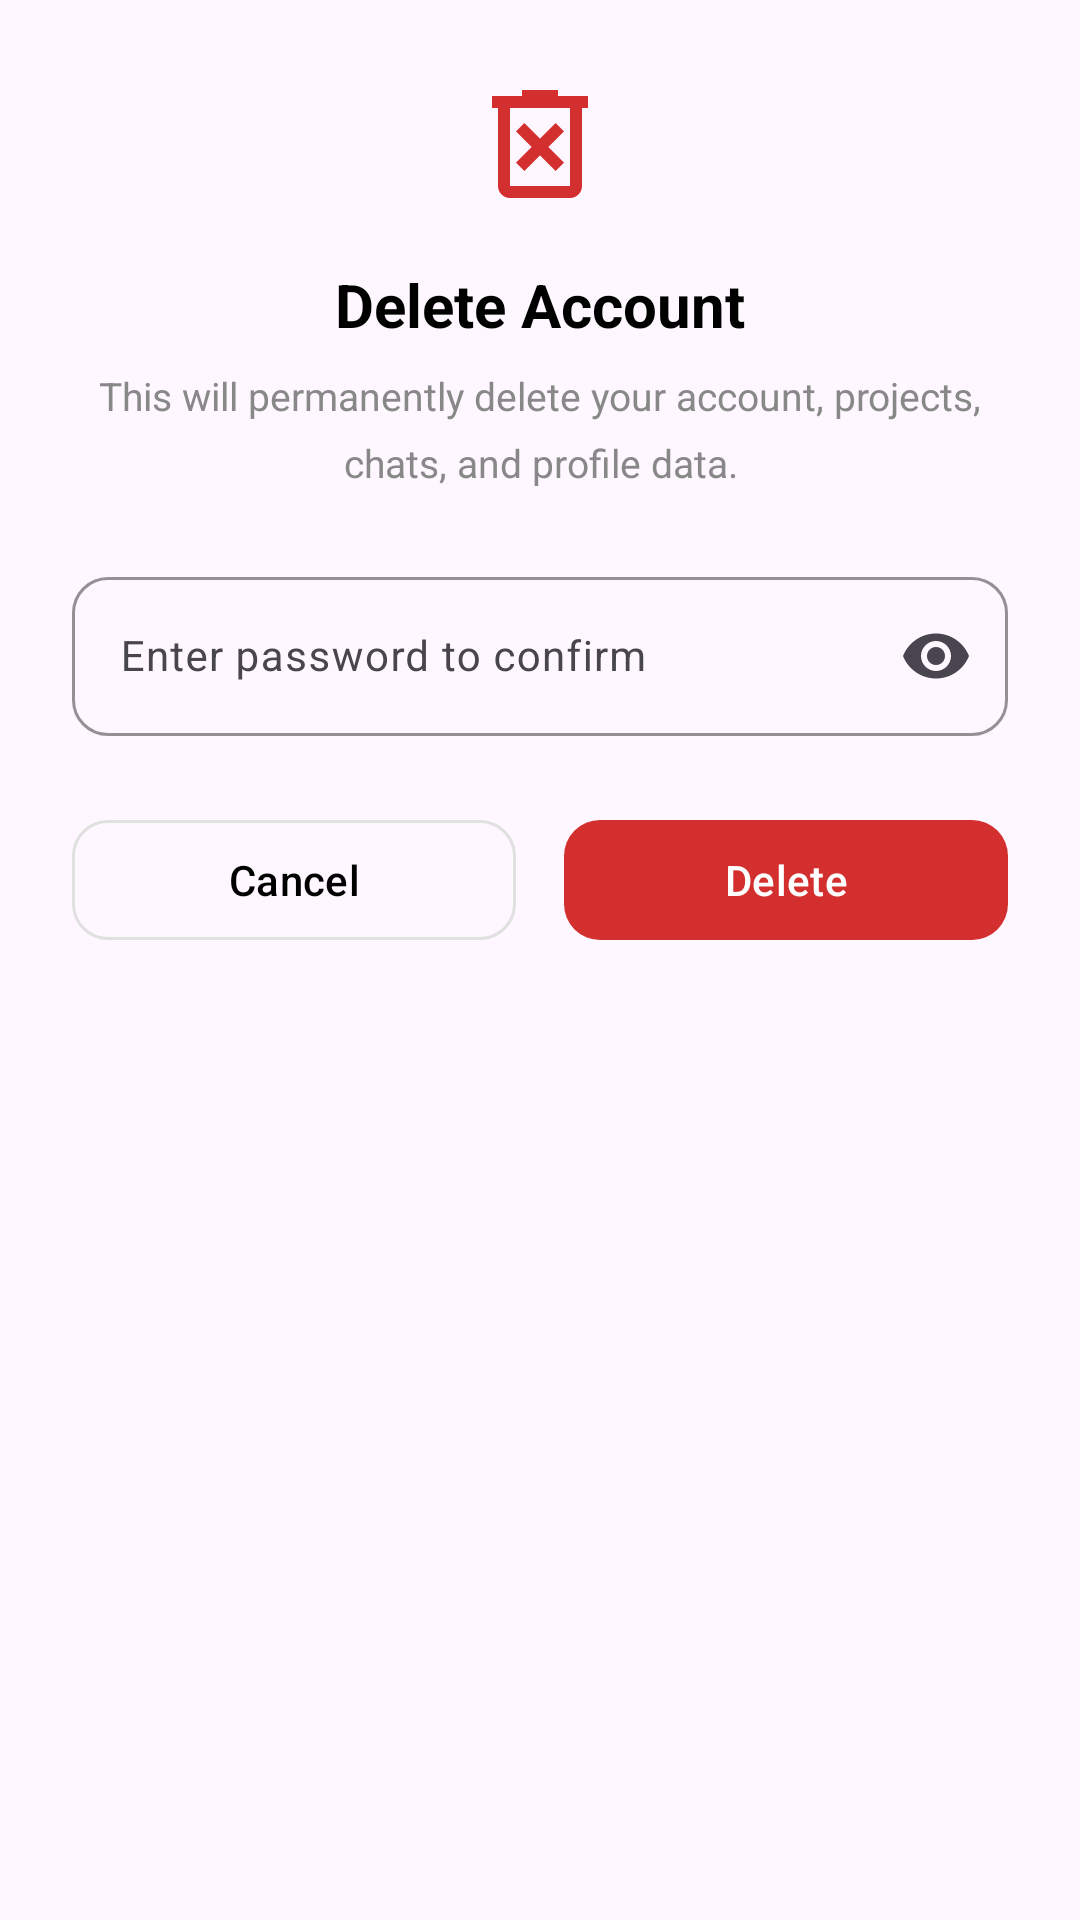

Named icons in this screenshot (1080 × 1920) and their bounding boxes, box(x1, y1, x2, y2):
delete forever: box(492, 90, 588, 198)
